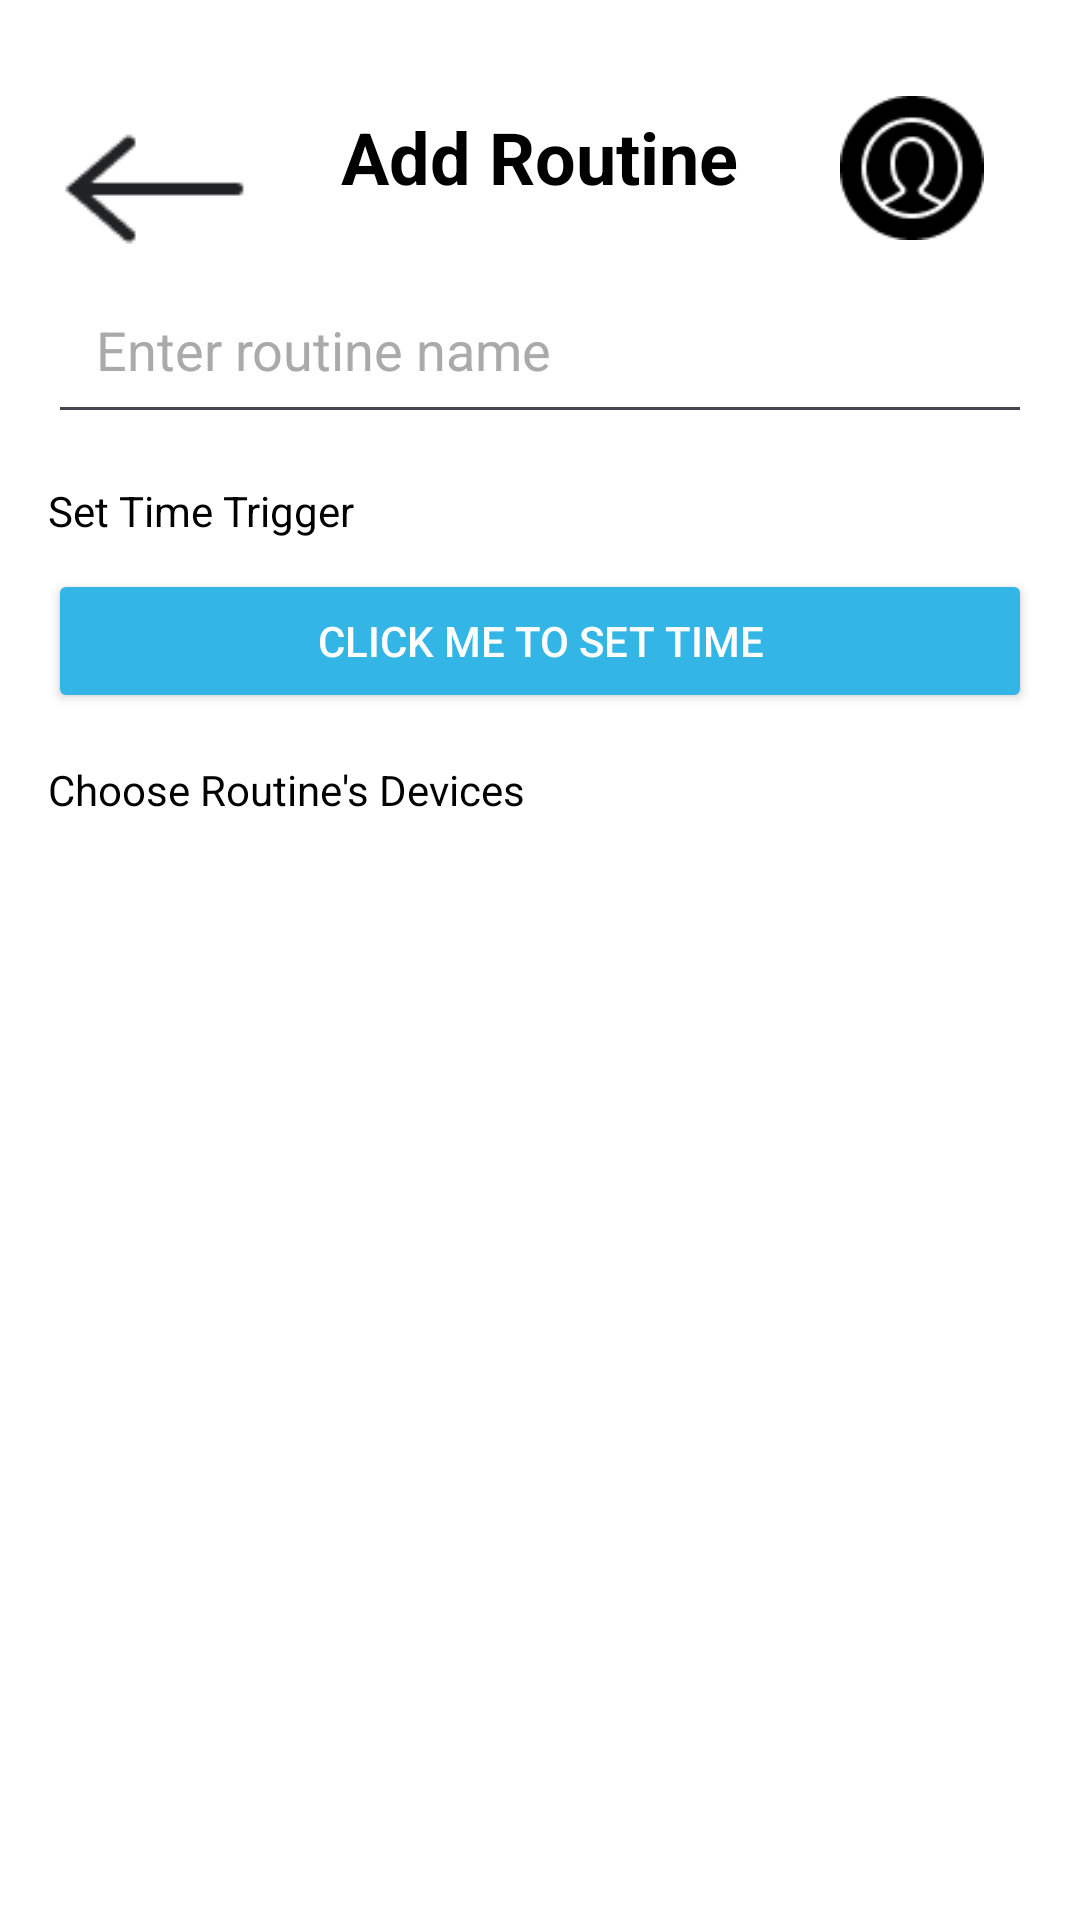

Icon bounding boxes for this 1080px×1920px phone screenshot, format [x1=x1, y1=y1, x2=x2, y2=y2]:
Back: [x1=65, y1=134, x2=244, y2=244]
Profile Icon: [x1=840, y1=96, x2=984, y2=240]
